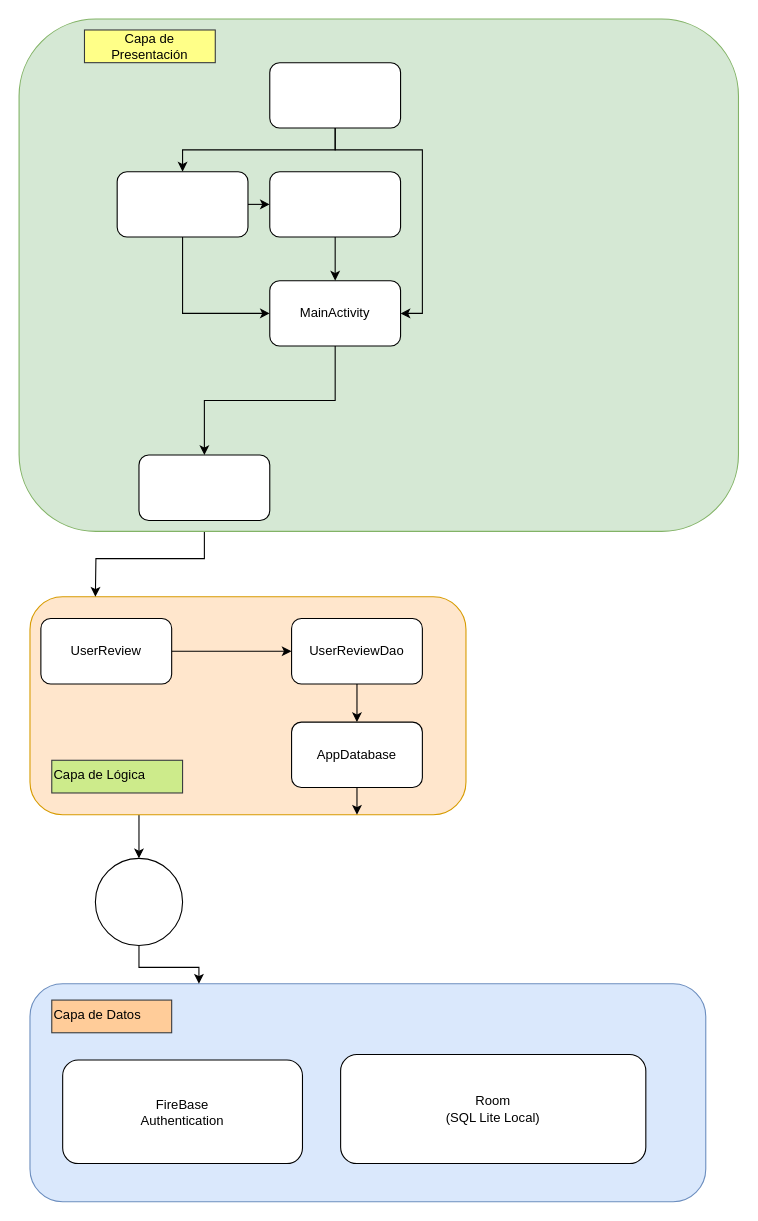
Some shapes in this 758 by 1221 pixel diagram are drawn without their labels. The centre of each missing label's shape, as x and y in pixels:
Couroutines Kotlin: the point at 138,901
LoginActivity: the point at 182,204
RegisterActivity: the point at 335,204
ReviewAdapter: the point at 204,487
SplashActivity: the point at 335,95
